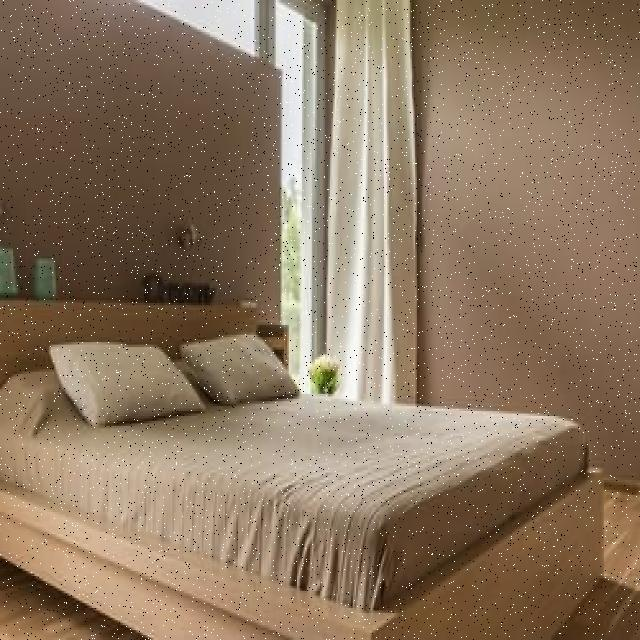bed: (9, 269, 598, 640)
